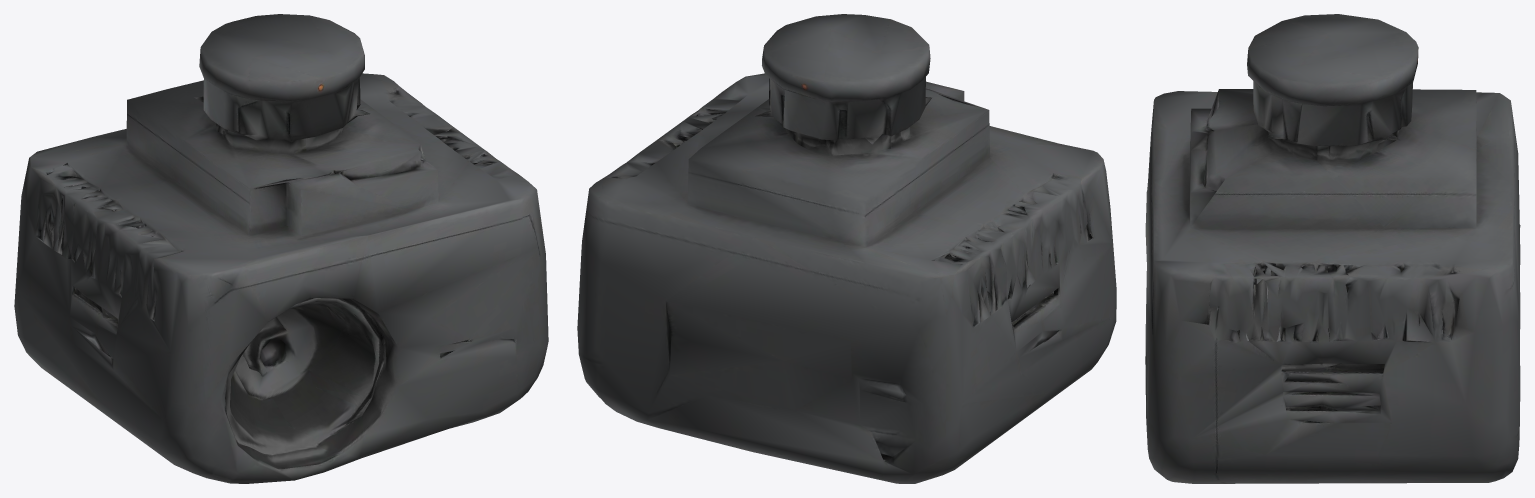
3 views of the same model, side by side, from view 1: azimuth 30°, elevation 25°; view 2: azimuth 150°, elevation 25°; view 3: azimuth 270°, elevation 25° (orthographic). The views are drawn at different scales.
Bounding box in the file's own units: 2 × 1.75 × 1.62.
1 material, 1 textured.
